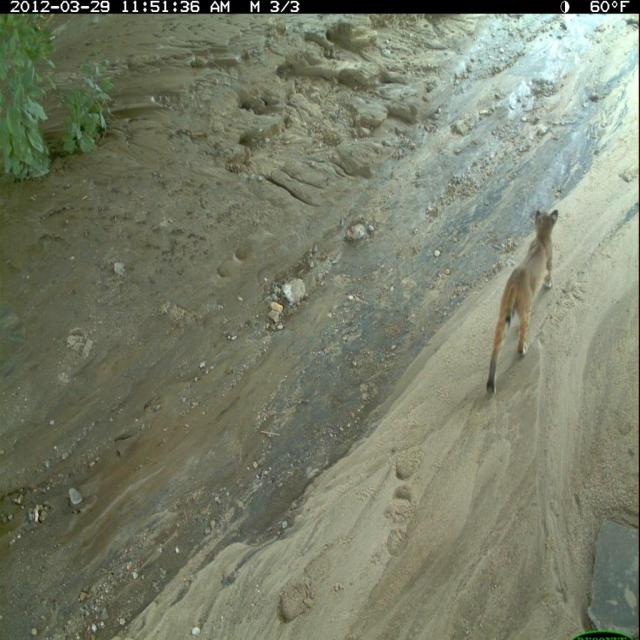bobcat: (484, 205, 563, 404)
